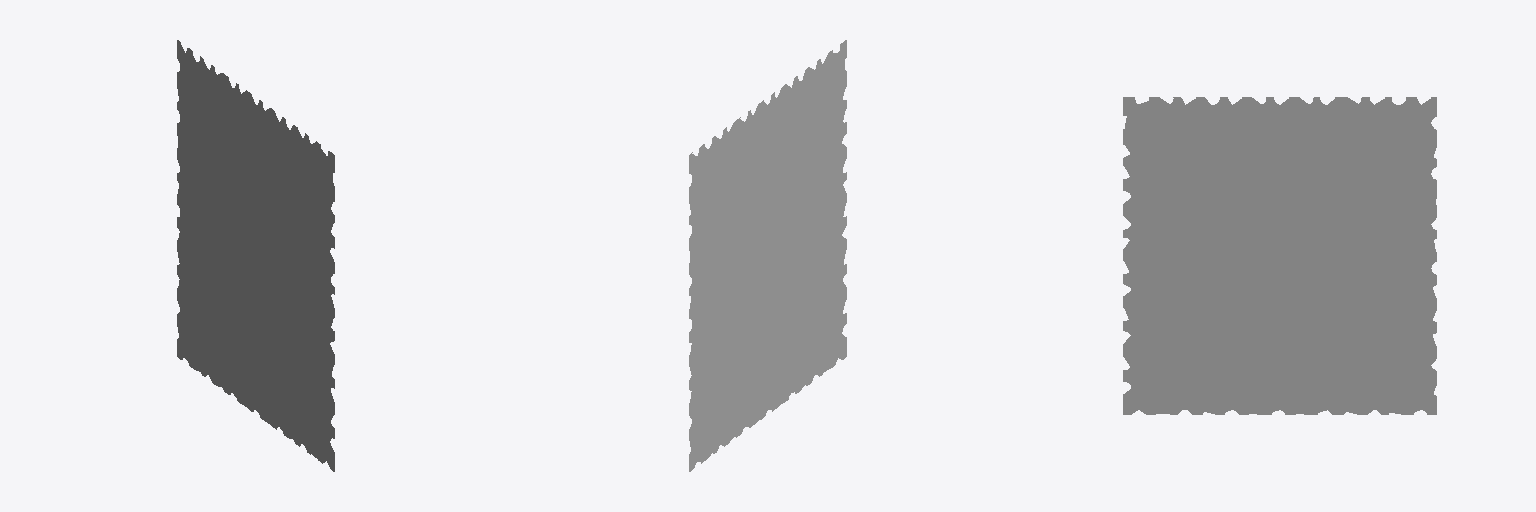
The model's file is Stamp_Only.obj.
3 views of the same model, side by side, from view 1: azimuth 30°, elevation 25°; view 2: azimuth 150°, elevation 25°; view 3: azimuth 270°, elevation 25° (orthographic).
Visible parts, largest first — view 1: default; view 2: default; view 3: default.
Part boxes in pixels (bbox=[...]): default: bbox=[177, 40, 334, 471]; default: bbox=[689, 40, 846, 471]; default: bbox=[1123, 97, 1436, 414].
Size of the model in its own units: 0 by 26.16 by 23.47.